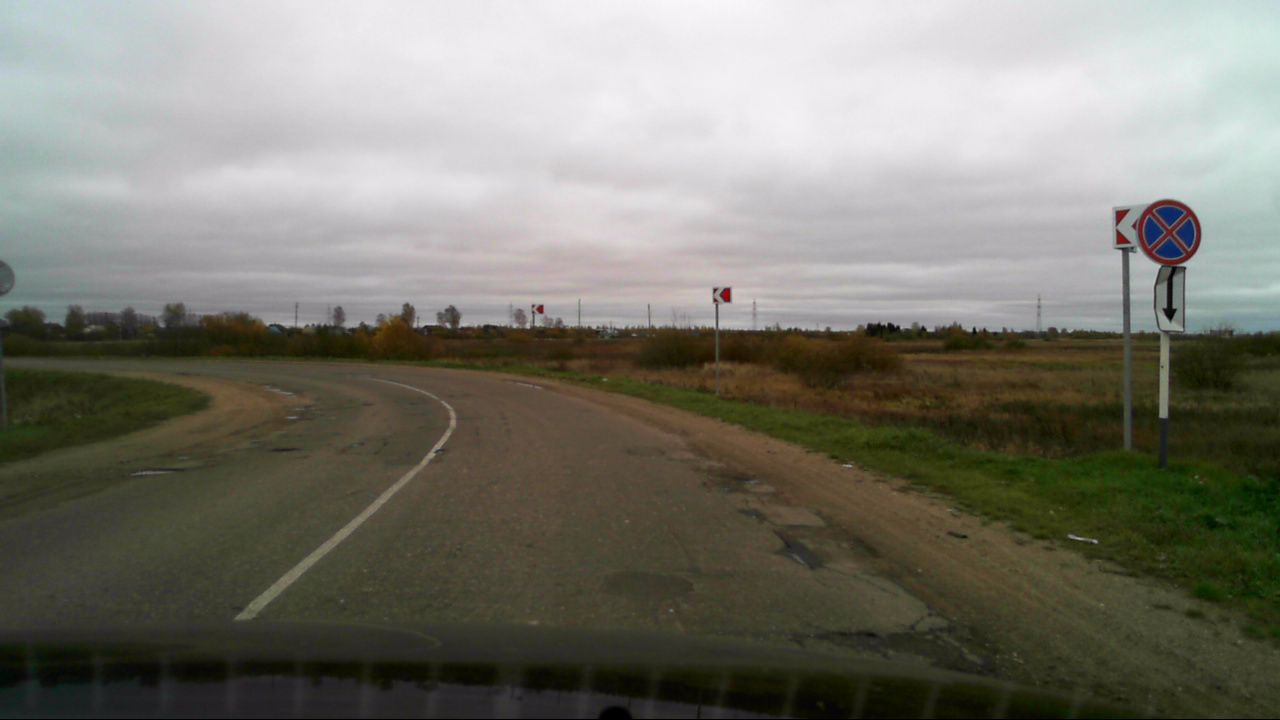No Parking: (1136, 198, 1201, 267)
